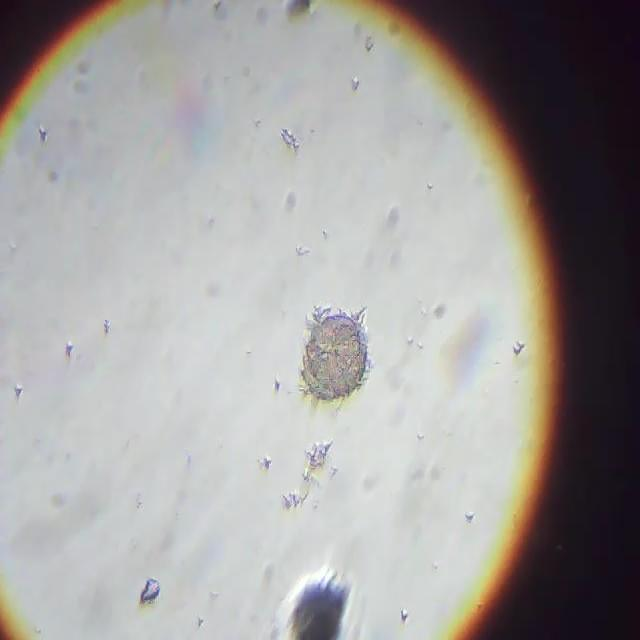alexandrium: (299, 317, 391, 406)
alexandrium minutum: (287, 576, 368, 640)
